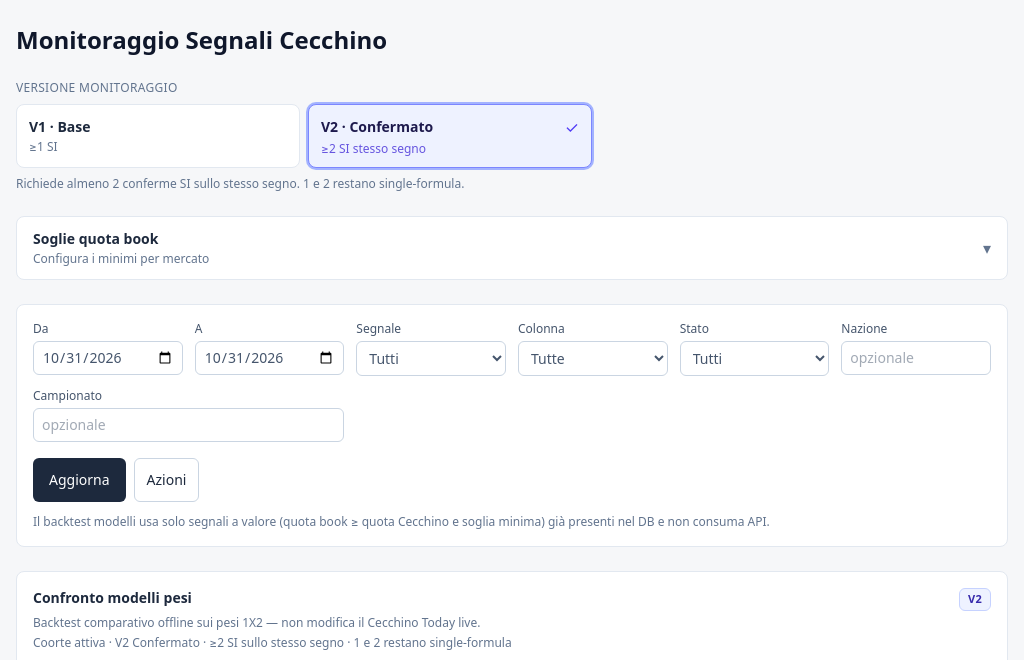
Test: CecchinoSignalsMonitoringPage — V1/V2 › modello selezionato non viene resettato al cambio versione
The width and height of the screenshot is (1024, 660).
Click the radio button with test id "monitoring-version-v1": (60, 126) [16,104,300,168]
(page scrolled)
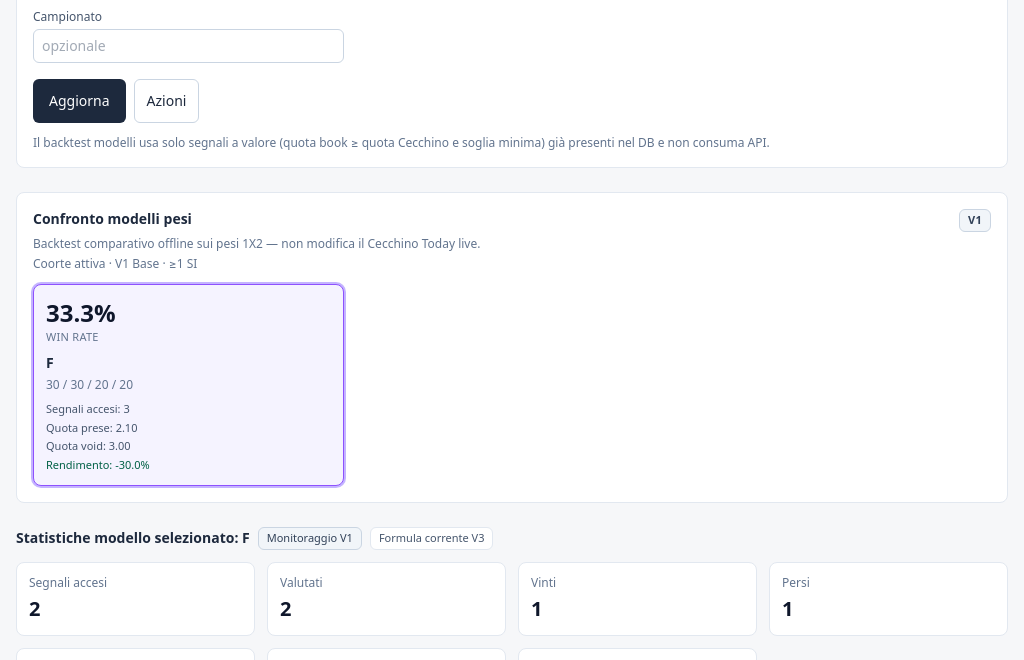
Expected: the text "Segnali accesi: 3" is shown, [46,401,130,416]
